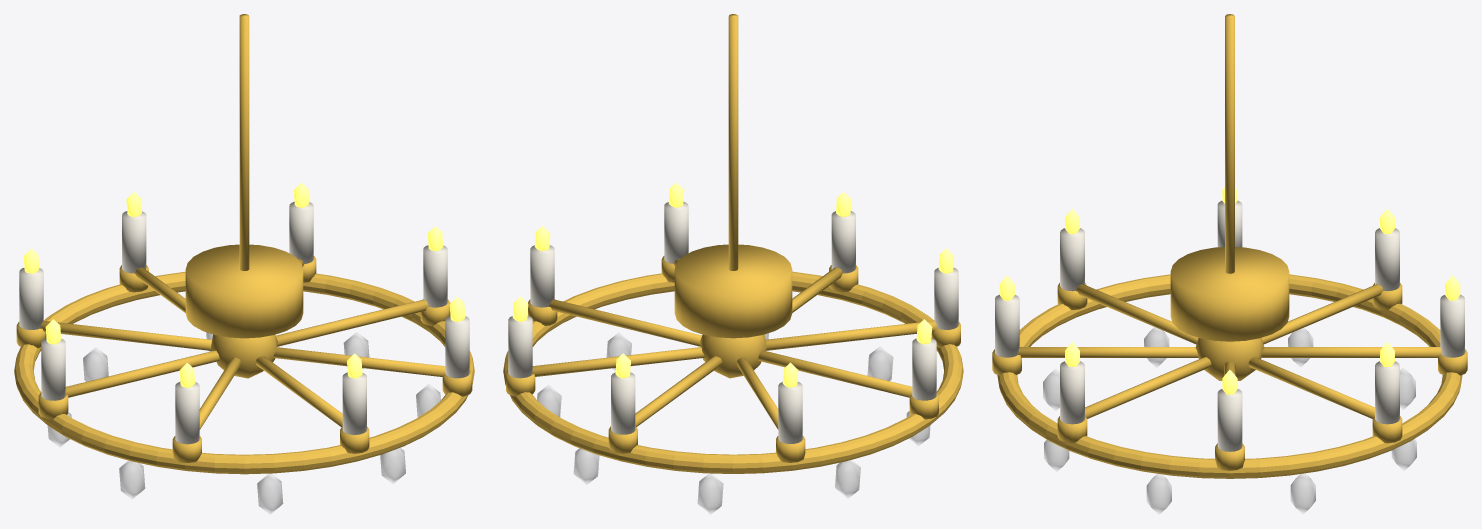
Rendered from lampadario.glb.
3 renders of one model, left to right at view 1: azimuth 30°, elevation 25°; view 2: azimuth 150°, elevation 25°; view 3: azimuth 270°, elevation 25°, orthographic.
Visible parts, largest first — view 1: Torus, Cylinder.001, Cylinder, Cylinder.023, Icosphere, Cylinder.011, Cylinder.002, Cylinder.014, Cylinder.019, Cylinder.025, Cylinder.016, Cylinder.022 (+16 smaller); view 2: Torus, Cylinder.001, Cylinder, Icosphere, Cylinder.005, Cylinder.017, Cylinder.002, Cylinder.014, Cylinder.016, Cylinder.007, Cylinder.010, Cylinder.013 (+15 smaller); view 3: Torus, Cylinder.001, Cylinder, Icosphere, Cylinder.008, Cylinder.020, Cylinder.005, Cylinder.023, Cylinder.004, Cylinder.007, Cylinder.025, Cylinder.010 (+16 smaller).
Boxes of the visible parts, x1,y1,x2,y2 form: Torus: (14, 271, 474, 474); Cylinder.001: (185, 244, 303, 338); Cylinder: (239, 14, 249, 270); Cylinder.023: (273, 347, 445, 376); Icosphere: (211, 334, 277, 378); Cylinder.011: (40, 321, 211, 350); Cylinder.002: (276, 299, 428, 346); Cylinder.014: (65, 350, 219, 397); Cylinder.019: (175, 382, 199, 444); Cylinder.025: (445, 316, 469, 378); Cylinder.016: (41, 338, 65, 400); Cylinder.022: (342, 372, 366, 434); Torus: (503, 271, 963, 473); Cylinder.001: (674, 244, 792, 338); Cylinder: (728, 14, 738, 270); Icosphere: (700, 334, 766, 378); Cylinder.005: (532, 347, 704, 376); Cylinder.017: (766, 320, 937, 350); Cylinder.002: (549, 299, 701, 346); Cylinder.014: (758, 350, 912, 397); Cylinder.016: (912, 338, 936, 400); Cylinder.007: (508, 316, 532, 378); Cylinder.010: (611, 372, 635, 434); Cylinder.013: (778, 382, 802, 443); Torus: (997, 274, 1462, 478); Cylinder.001: (1170, 247, 1289, 341); Cylinder: (1225, 14, 1234, 273); Icosphere: (1195, 338, 1264, 380); Cylinder.008: (1261, 347, 1441, 357); Cylinder.020: (1018, 347, 1198, 357); Cylinder.005: (1248, 357, 1374, 418); Cylinder.023: (1085, 357, 1211, 418); Cylinder.004: (1217, 389, 1242, 451); Cylinder.007: (1375, 361, 1399, 424); Cylinder.025: (1060, 361, 1084, 424); Cylinder.010: (1440, 294, 1464, 357).
Size of the model in its own units: 0.96 by 0.948 by 0.96.
